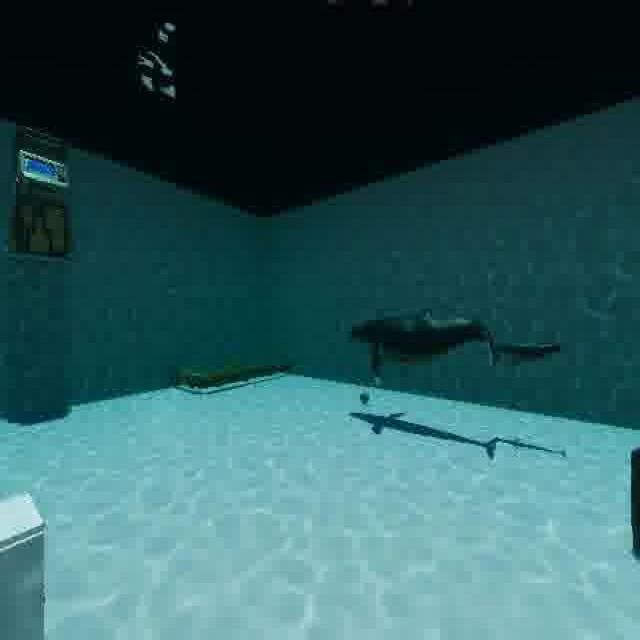Control Panel: (11, 113, 76, 273)
Pipe: (167, 349, 303, 402)
Whale: (343, 313, 501, 411), (501, 330, 571, 391)
